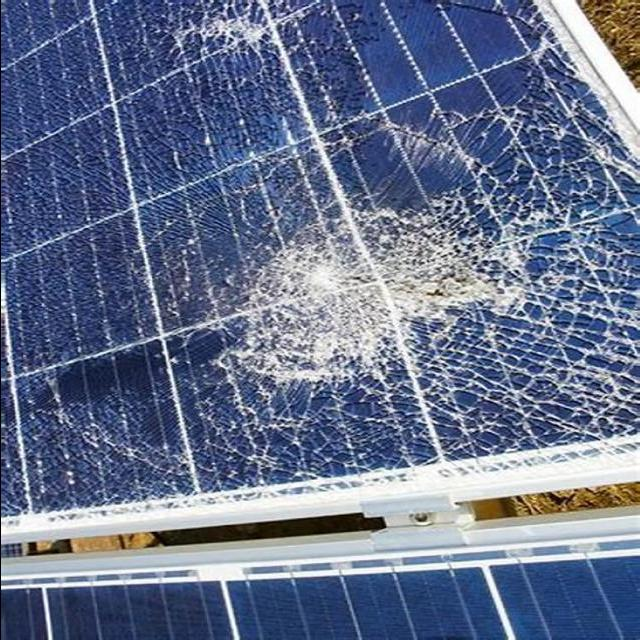cracked: (1, 0, 640, 535)
